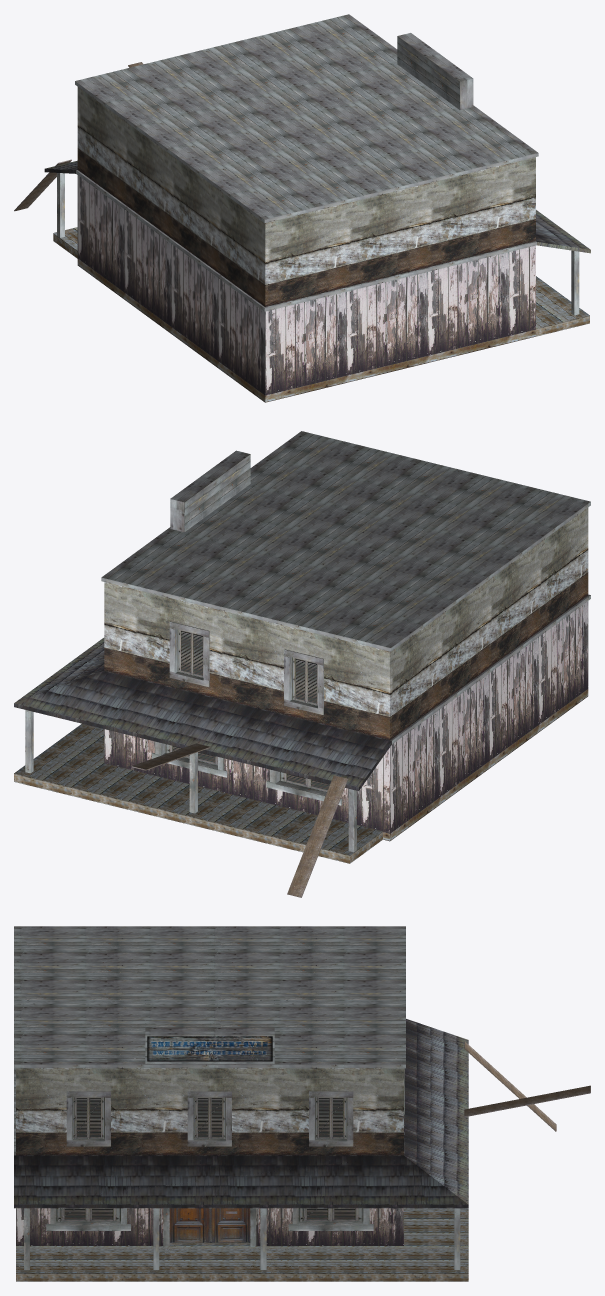
The model's file is StaticMesh14.fbx.
3 renders of one model, top to bottom at view 1: azimuth 30°, elevation 25°; view 2: azimuth 150°, elevation 25°; view 3: azimuth 270°, elevation 25°, orthographic. The views are drawn at different scales.
Visible parts, largest first — view 1: StaticMesh14; view 2: StaticMesh14; view 3: StaticMesh14.
Part boxes in pixels (x1,y1,x2,y2): StaticMesh14: (14, 14, 590, 402); StaticMesh14: (14, 431, 590, 897); StaticMesh14: (14, 926, 590, 1281).
Bounding box in the file's own units: 77200 × 48500 × 114257.
